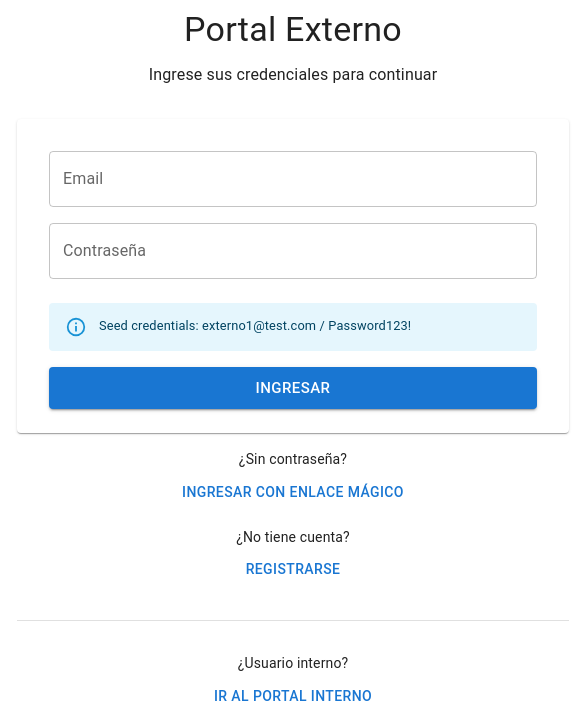
Test case: ExternoLoginPage › shows validation errors for empty fields
The image size is (587, 724).
Click the button "Ingresar". click: click(293, 388)
box: top-left (49, 367), bottom-right (537, 409)
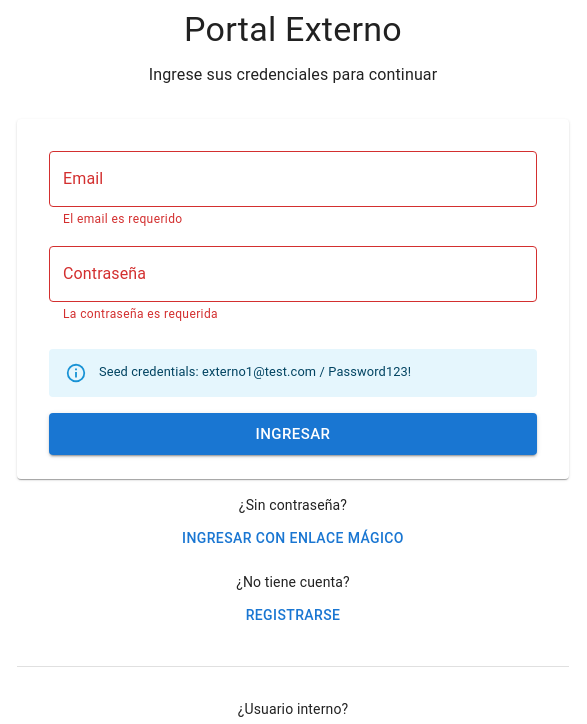
Result: the text "El email es requerido" is shown at top-left (63, 212), bottom-right (183, 226)
Result: the text "La contraseña es requerida" is shown at top-left (63, 307), bottom-right (218, 321)
